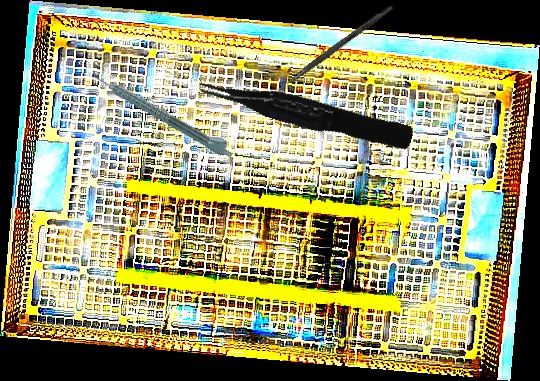Handpiece: (91, 65, 238, 161)
Hook Surgical: (268, 2, 394, 101)
Tissue Forceps: (195, 63, 416, 160)
